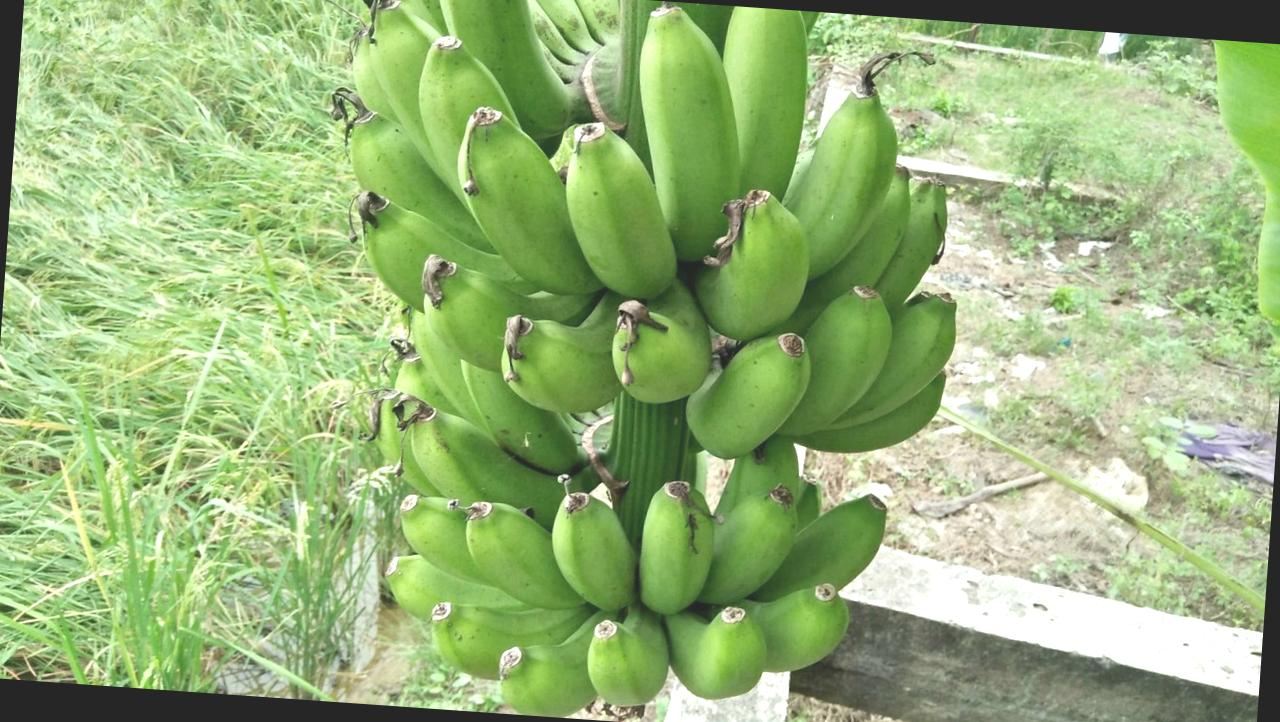Banana Unripe: (239, 0, 1012, 722)
